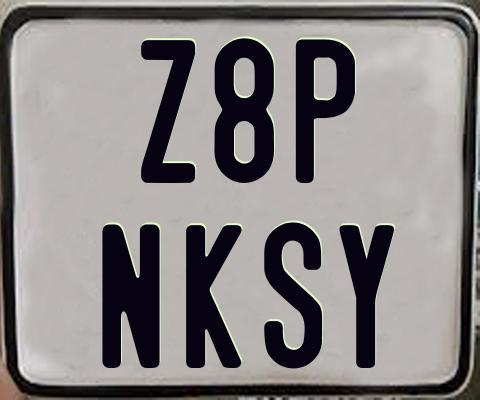8: (212, 36, 272, 182)
K: (184, 225, 245, 372)
N: (102, 222, 160, 367)
P: (296, 36, 356, 186)
S: (263, 221, 326, 372)
Y: (336, 225, 393, 370)
Z: (138, 37, 194, 181)
